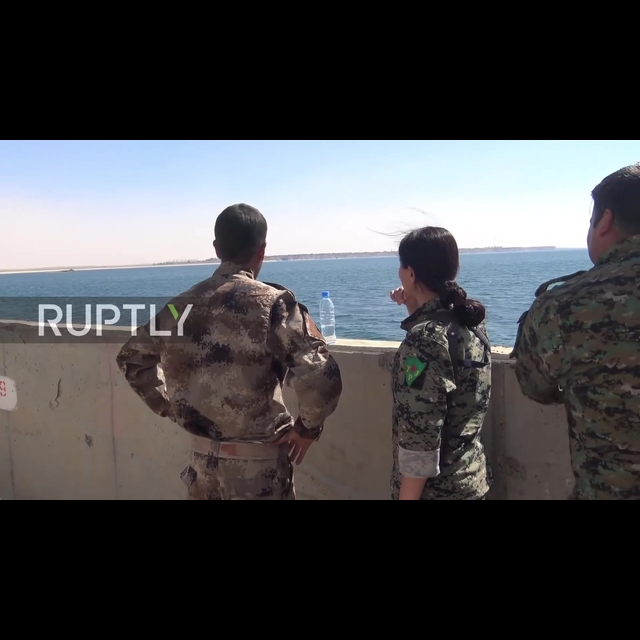YPJ: (399, 351, 431, 388)
